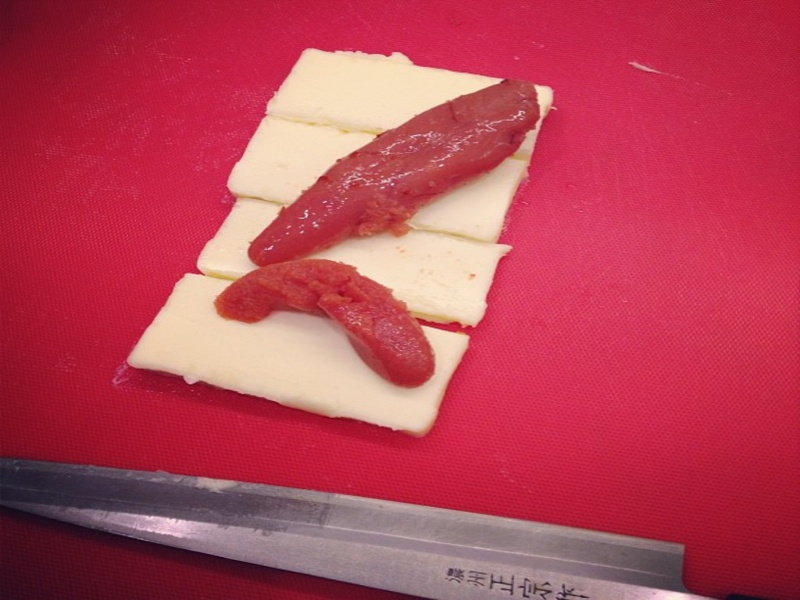knife: (4, 447, 799, 599)
